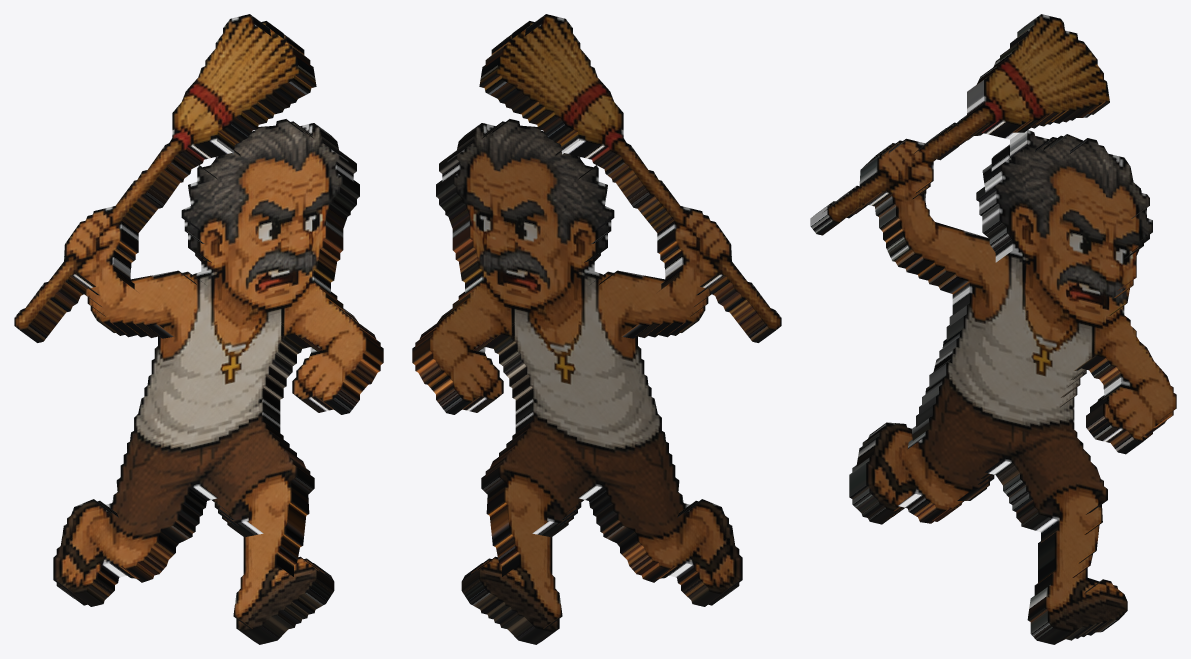
The model's file is old_man_walk.glb.
The picture shows the model from 3 angles, left to right: view 1: azimuth 30°, elevation 25°; view 2: azimuth 150°, elevation 25°; view 3: azimuth 330°, elevation 25°; orthographic projection.
Parts seen in each view (by area): view 1: world; view 2: world; view 3: world.
Part boxes in pixels (x1,y1,x2,y2): world: (14,14,383,644); world: (412,14,781,644); world: (810,14,1176,644).
Size of the model in its own units: 3.41 by 5.7 by 0.2855.
Materials: 1 (1 with a texture image).
